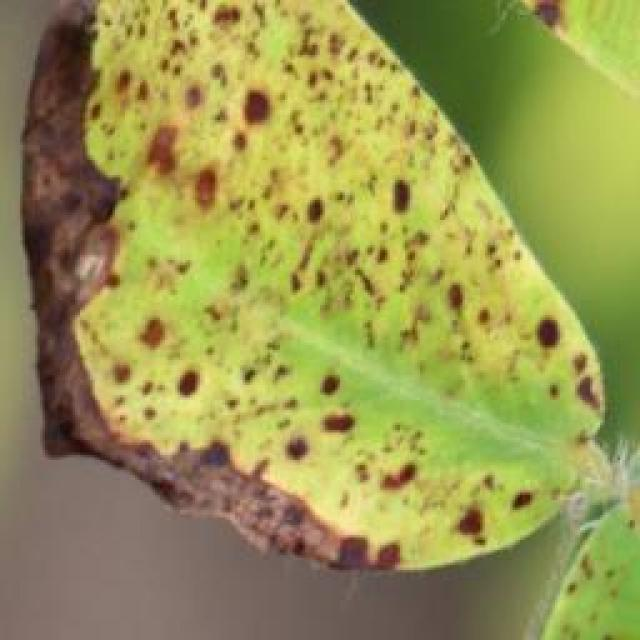Yellowish: (3, 0, 640, 581)
